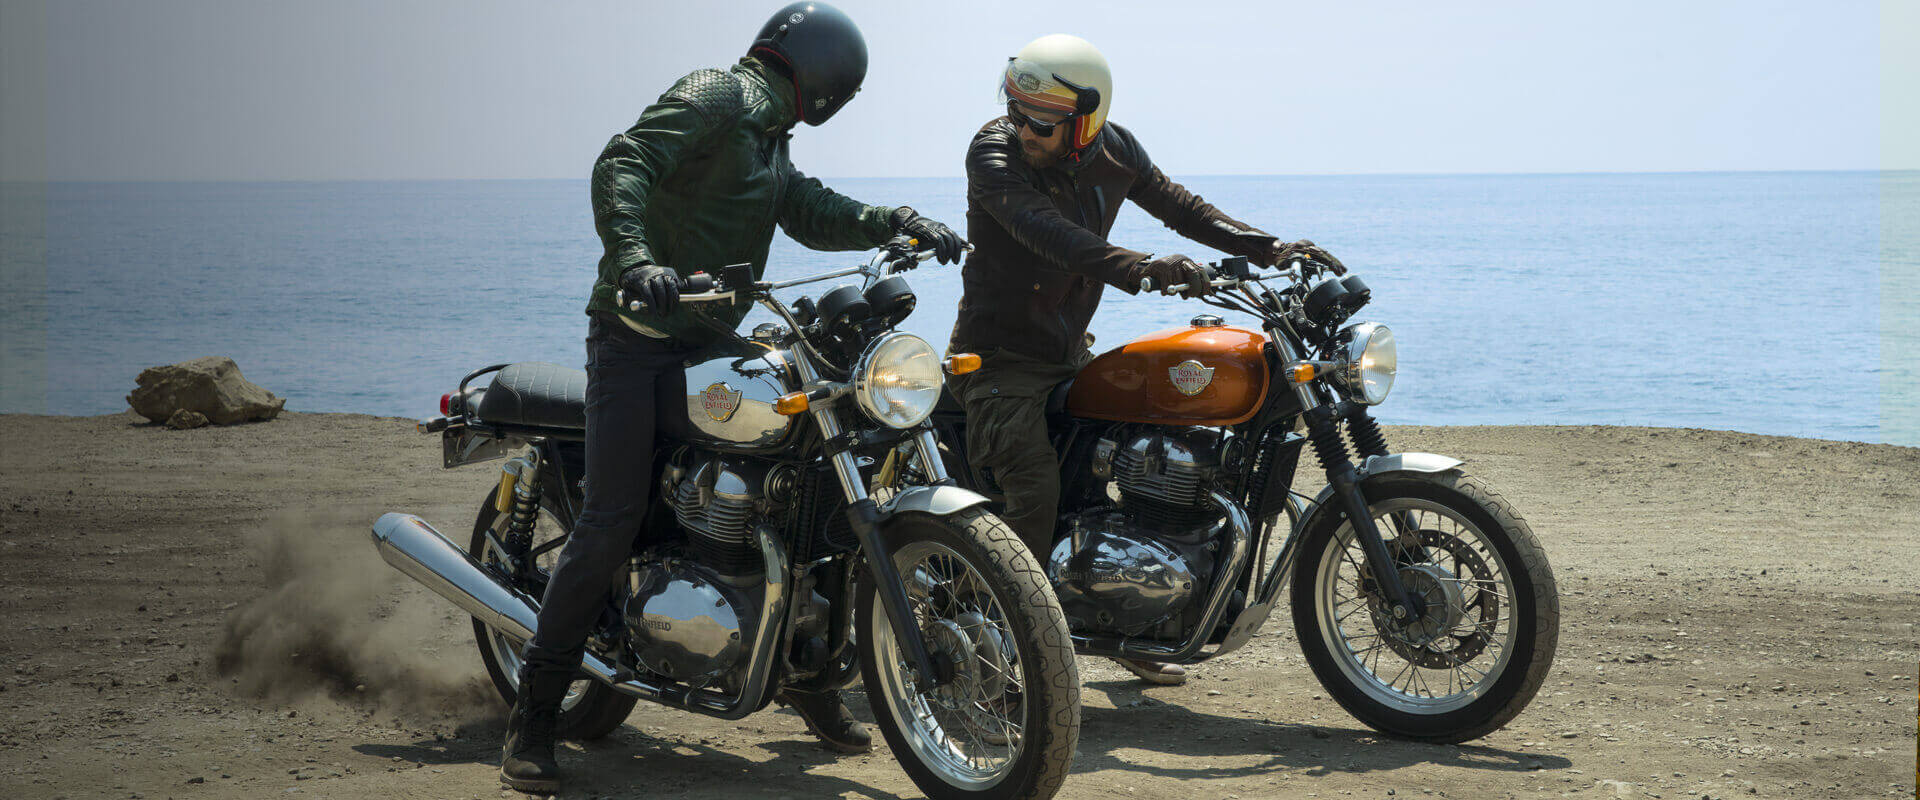bike: (816, 243, 1575, 739), (371, 298, 1074, 783)
